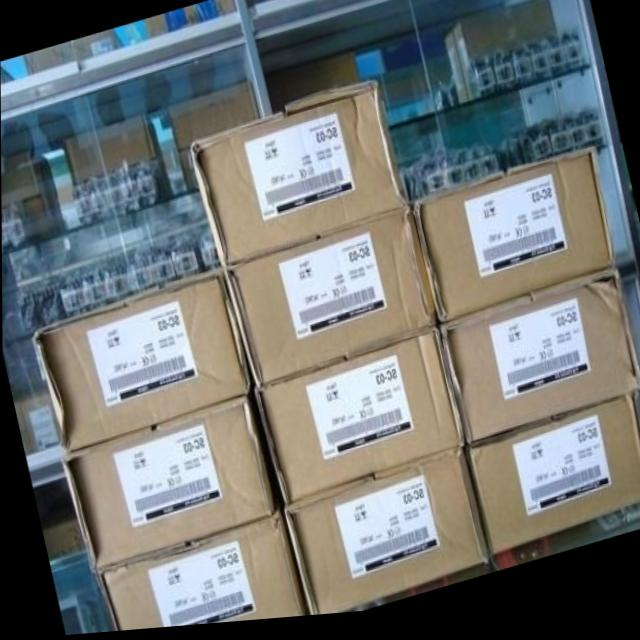box: (189, 85, 408, 271), (32, 271, 249, 452), (221, 212, 435, 392), (60, 398, 274, 574), (254, 333, 465, 510), (411, 157, 616, 331), (437, 281, 640, 452), (283, 455, 489, 620), (464, 401, 640, 565), (97, 514, 304, 633)
